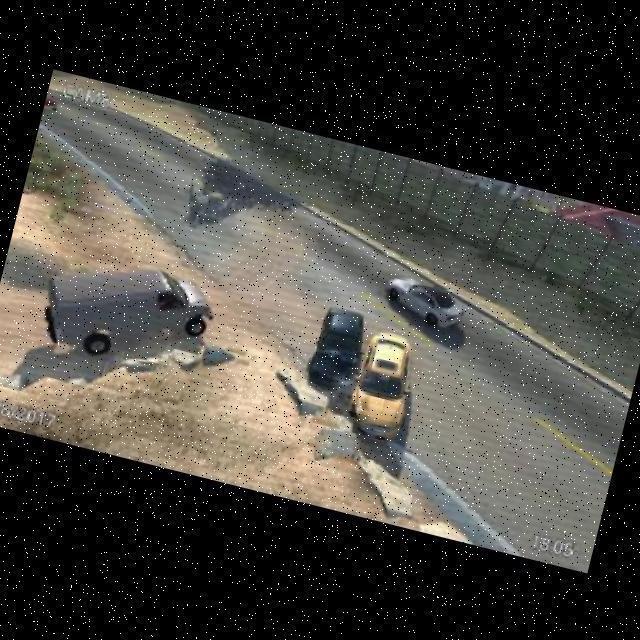accident: (307, 331, 408, 416)
